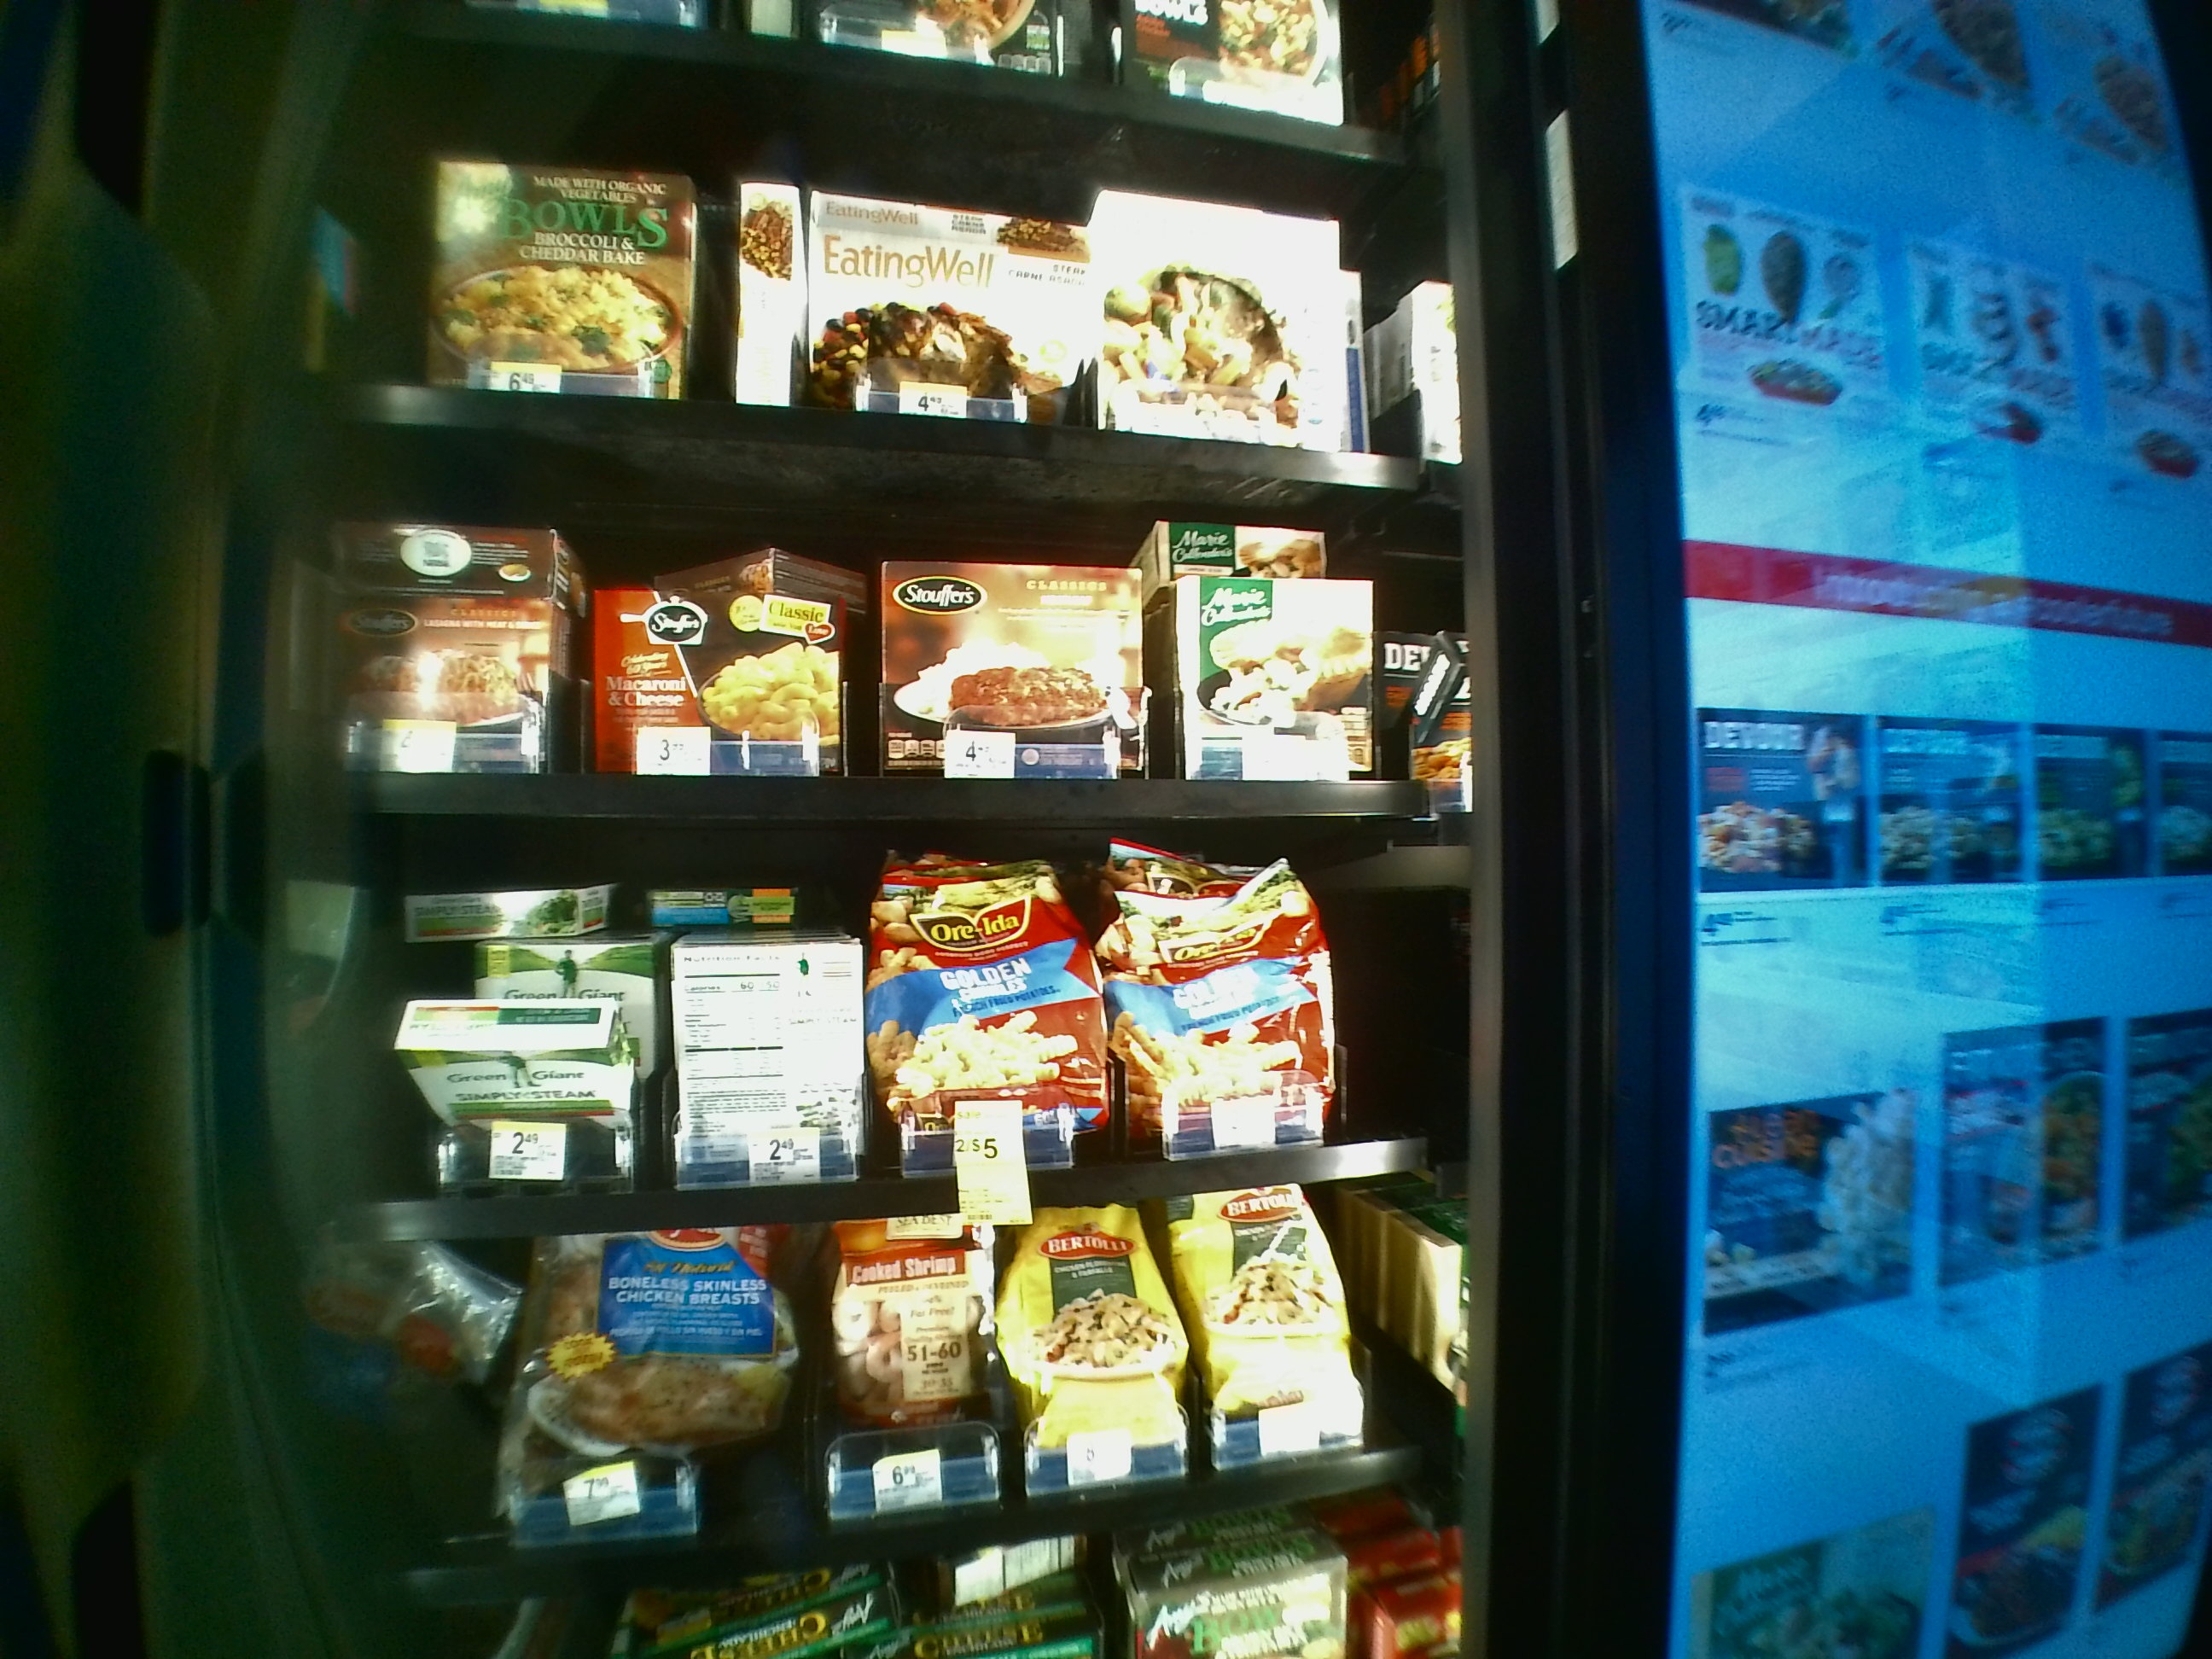shelf: (310, 833, 1456, 1244), (310, 430, 1453, 819)
